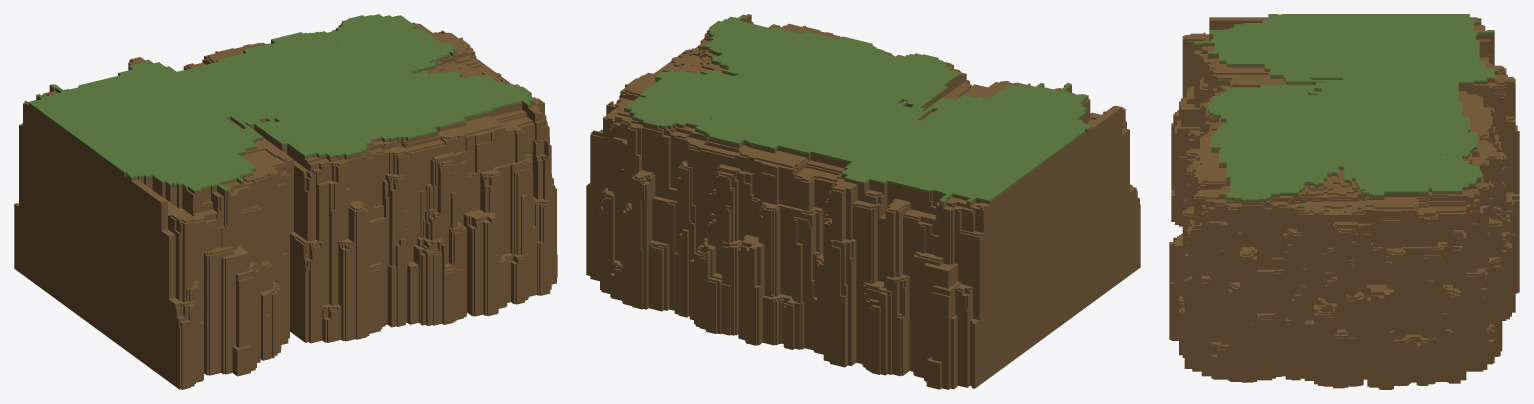
The model's file is forest1.4-173.obj.
The picture shows the model from 3 angles, left to right: view 1: azimuth 30°, elevation 25°; view 2: azimuth 150°, elevation 25°; view 3: azimuth 270°, elevation 25°; orthographic projection.
Size of the model in its own units: 25.1 by 10.1 by 18.4.
Materials: 1 (1 with a texture image).
